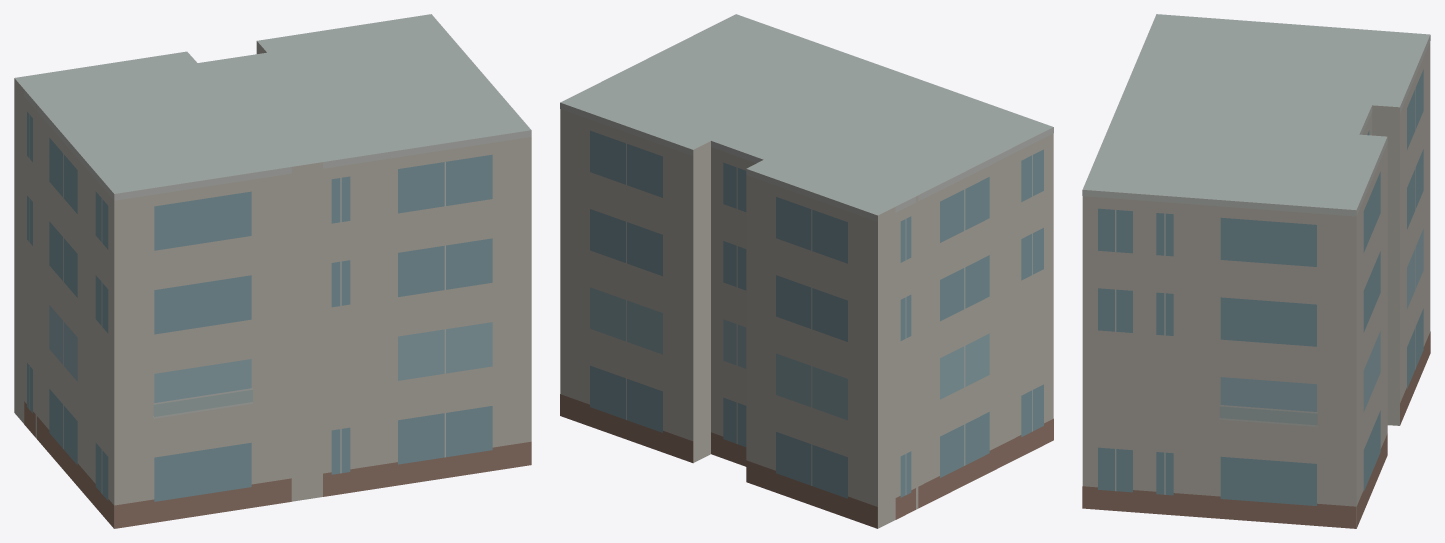
File: survey-upis-32991968.glb
3 views of the same model, side by side, from view 1: azimuth 30°, elevation 25°; view 2: azimuth 150°, elevation 25°; view 3: azimuth 270°, elevation 25° (orthographic). The views are drawn at different scales.
Visible parts, largest first — view 1: survey-upis-32991968.tmp; view 2: survey-upis-32991968.tmp; view 3: survey-upis-32991968.tmp.
Part boxes in pixels (x1,y1,x2,y2): survey-upis-32991968.tmp: (14, 14, 531, 528); survey-upis-32991968.tmp: (560, 14, 1053, 528); survey-upis-32991968.tmp: (1082, 14, 1430, 528).
Bounding box in the file's own units: 16.11 × 12.2 × 12.08.
